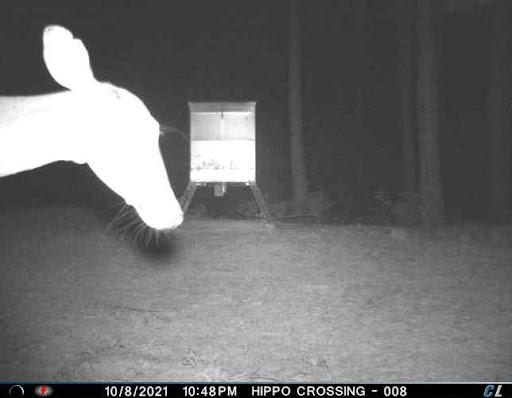Deer: (0, 19, 192, 248)
